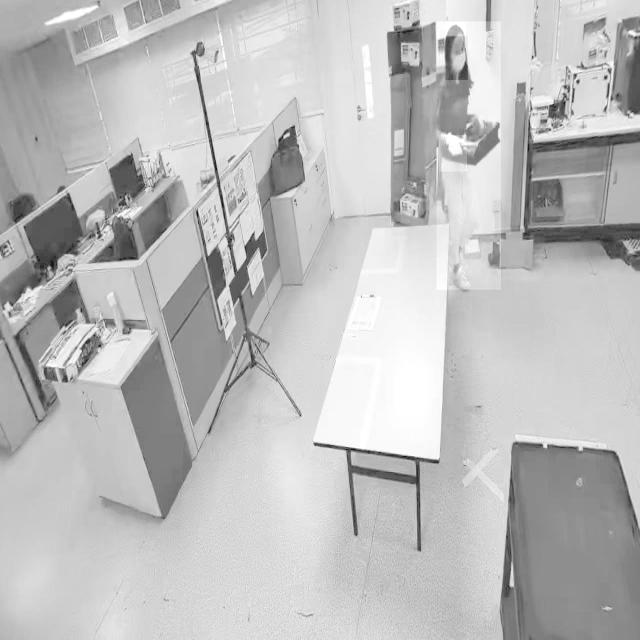face_mask: (445, 35, 468, 81)
hand_glove: (439, 135, 467, 172)
head_nohelmet: (445, 22, 466, 38)
person: (436, 21, 501, 291)
shoes: (449, 259, 473, 297)
